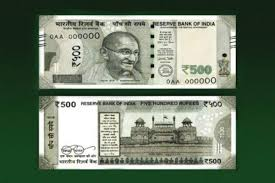fiveHundred: (50, 31, 223, 80)
